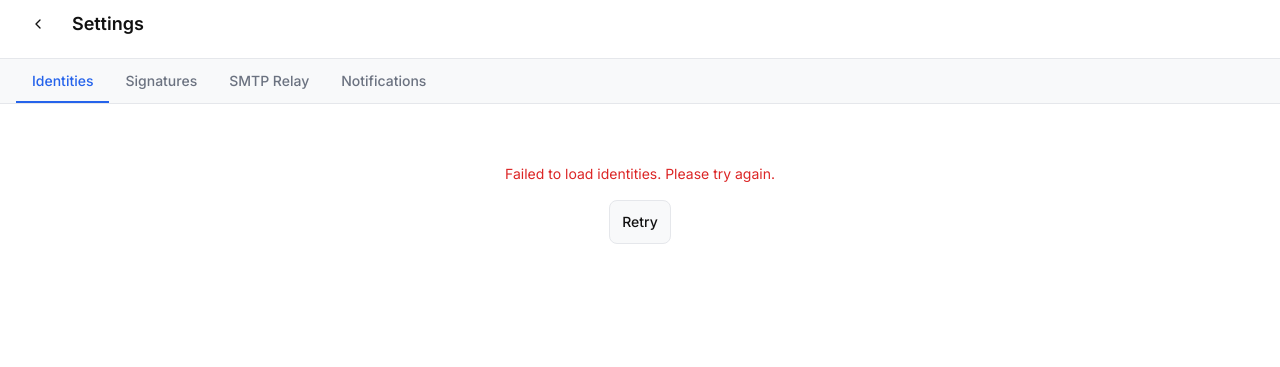
it: Settings › identities tab › retry button re-fetches identities
Expected: the text "Failed to load identities. Please try again." is shown, [505, 164, 775, 184]
Click the button "Retry": click(640, 222) [609, 200, 671, 244]
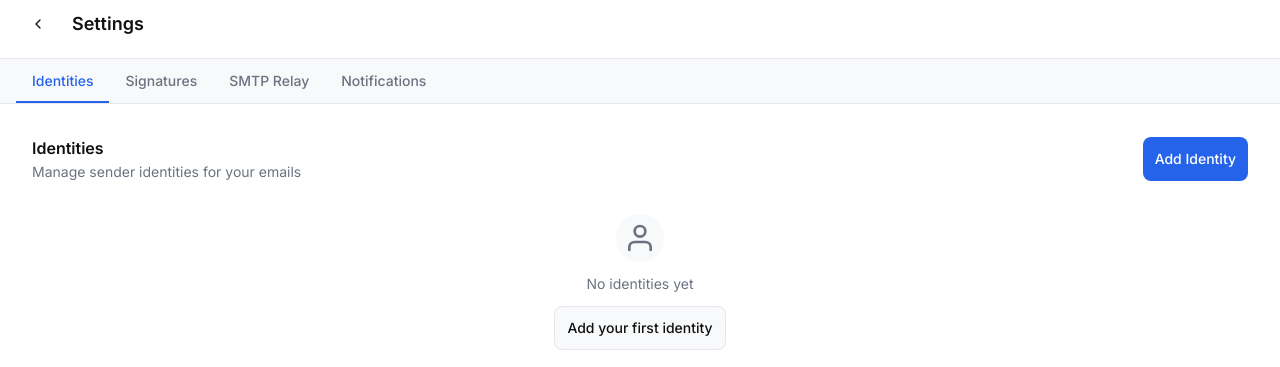
Now the text "No identities yet" is shown, box [586, 274, 694, 294]
